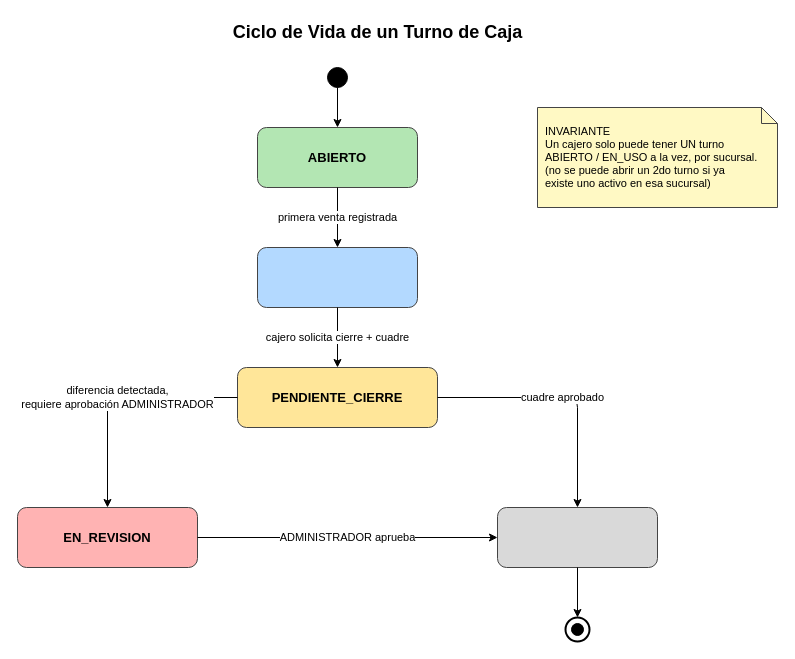
This 795x659 diagram has some shape labels left out. The shapes that lost their labels are listed below. From the top down, each one's box as (x1, y1, x2, y2) in pixels, then its label:
(256, 246, 418, 308): EN_USO
(496, 506, 658, 568): CERRADO
